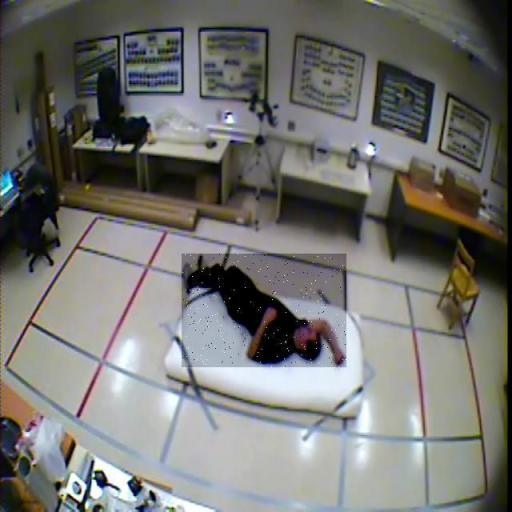Fall: (182, 254, 347, 367)
